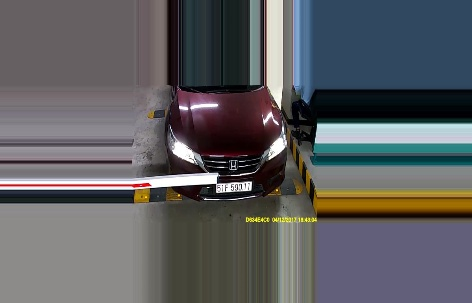plate: (213, 182, 252, 192)
